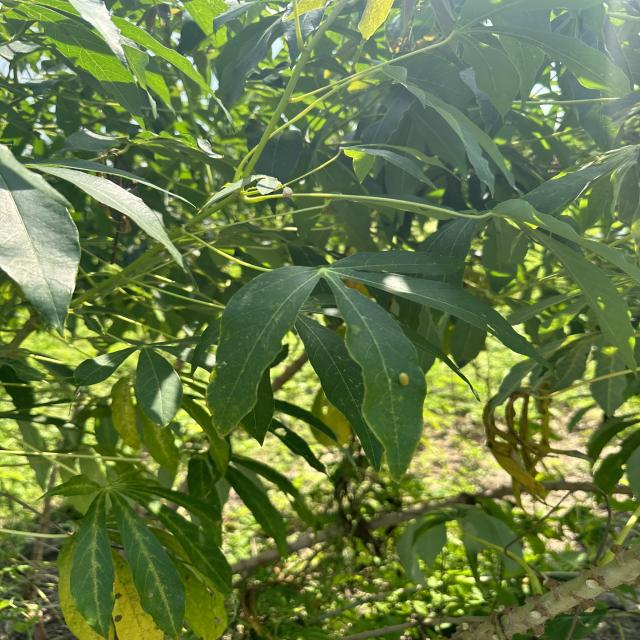Mosca: (389, 361, 424, 398), (583, 289, 610, 313)
